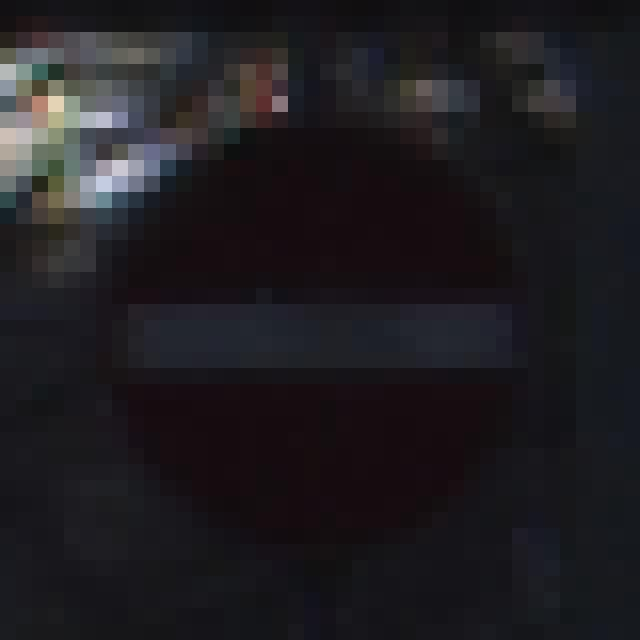No Entry: (97, 97, 561, 561)
